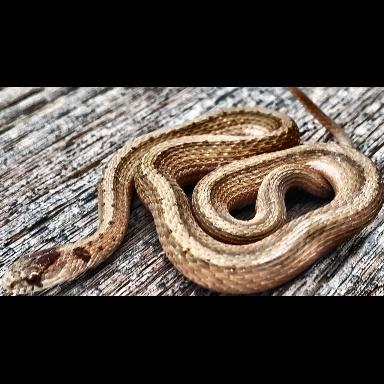snake: (0, 103, 384, 301)
